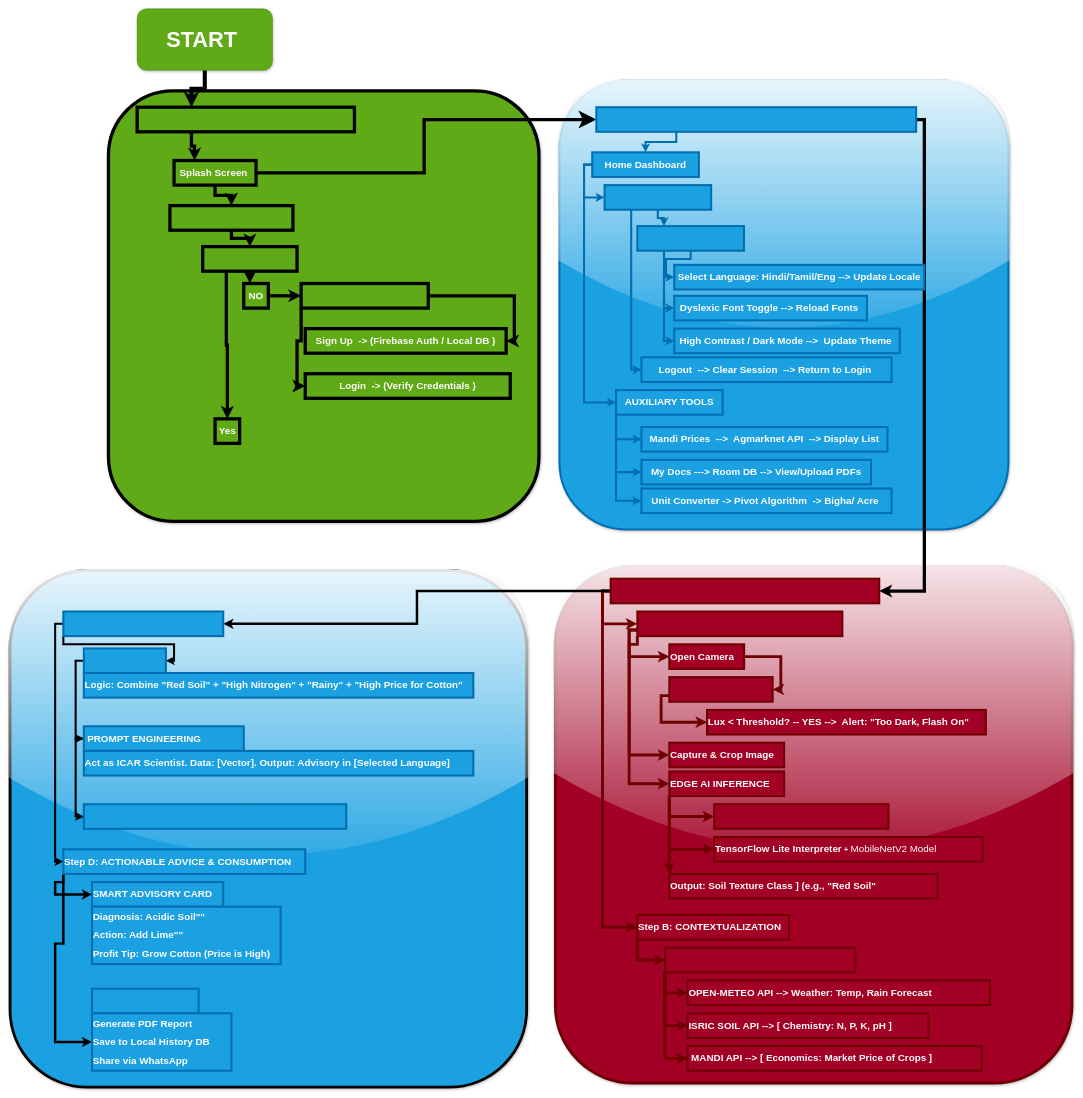
The diagram is 1083 pixels wide and 1098 high, and some of its shapes have lost their labels. Here are the shapes that lost their labels. From the top down, the centre of each, then its label:
(245,119): PHASE 0: ONBOARDING & AUTHENTICATION
(756,119): PHASE 1: DASHBOARD & ACCESSIBILITY CONFIGURATION
(657,197): Settings / Profile
(231,218): SessionManager Check
(690,238): Accessibility Options
(249,259): Is User Logged In?
(364,296): Welcome / Login Activity
(744,590): PHASE 2: CORE DIAGNOSTIC LOOP (The "Scan" Flow)
(143,623): Step C: REASONING & FUSION
(739,623): Step A: PERCEPTION & QUALITY GUARD
(125,660): FUSION ENGINE
(720,689): Light Sensor Check
(215,816): CLOUD GENERATIVE AI, Model: Llama-3 via Groq
(801,816): Pre-processing: Resize to 224x224
(760,959): GPS Module -->Lat/Long Coordinates
(145,1000): STORAGE & SHARE
